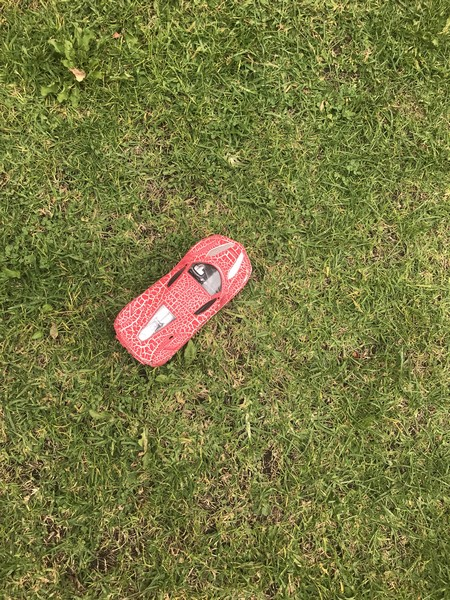RC: (108, 232, 255, 370)
